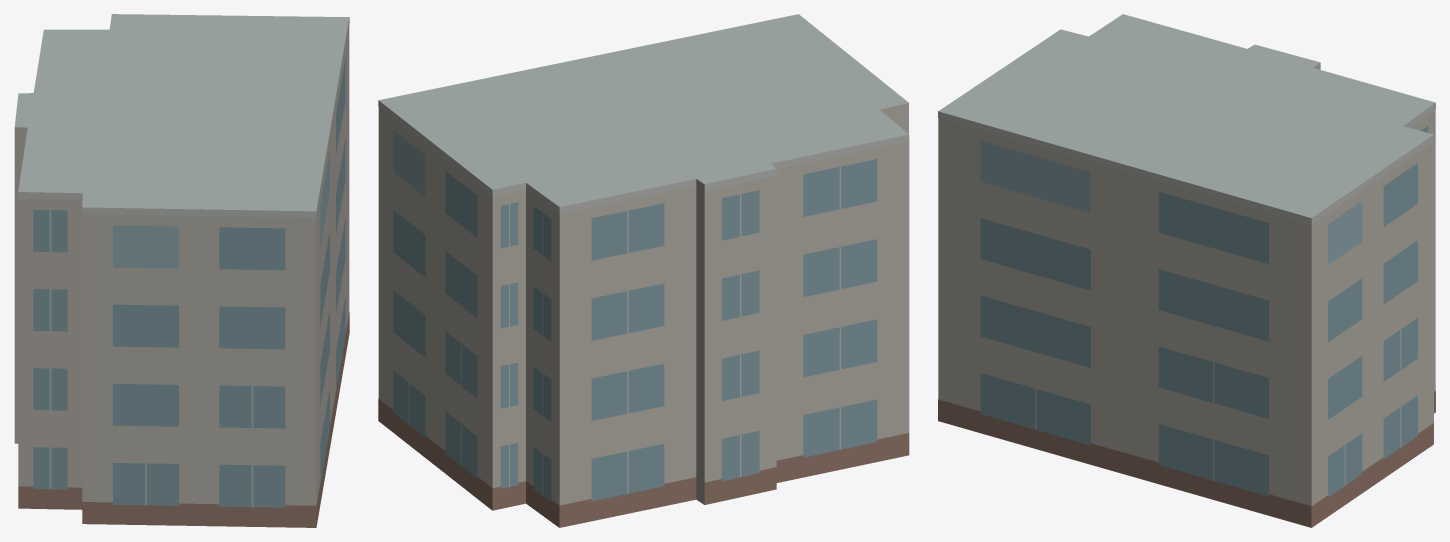
File: survey-upis-32771622.glb
3 views of the same model, side by side, from view 1: azimuth 30°, elevation 25°; view 2: azimuth 150°, elevation 25°; view 3: azimuth 270°, elevation 25° (orthographic). The views are drawn at different scales.
Visible parts, largest first — view 1: survey-upis-32771622.tmp; view 2: survey-upis-32771622.tmp; view 3: survey-upis-32771622.tmp.
Part boxes in pixels (x1,y1,x2,y2): survey-upis-32771622.tmp: [14, 14, 349, 527]; survey-upis-32771622.tmp: [378, 14, 909, 527]; survey-upis-32771622.tmp: [938, 14, 1435, 527].
Size of the model in its own units: 16.09 by 11.38 by 16.58.
